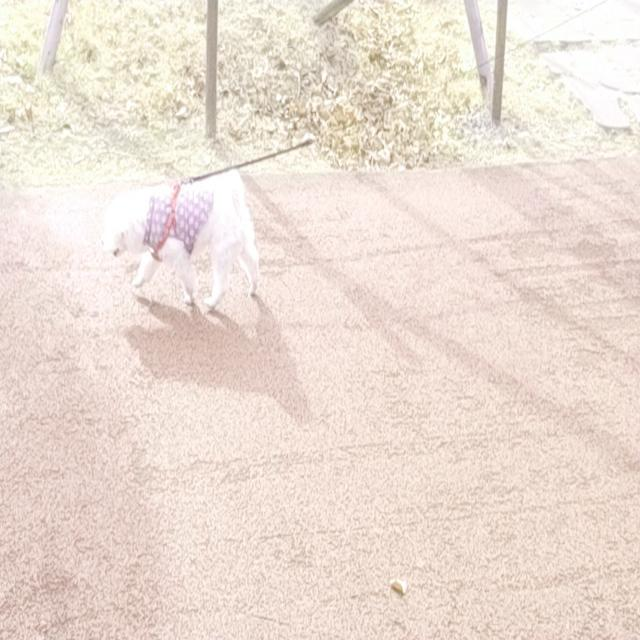Dog: (102, 166, 259, 310)
